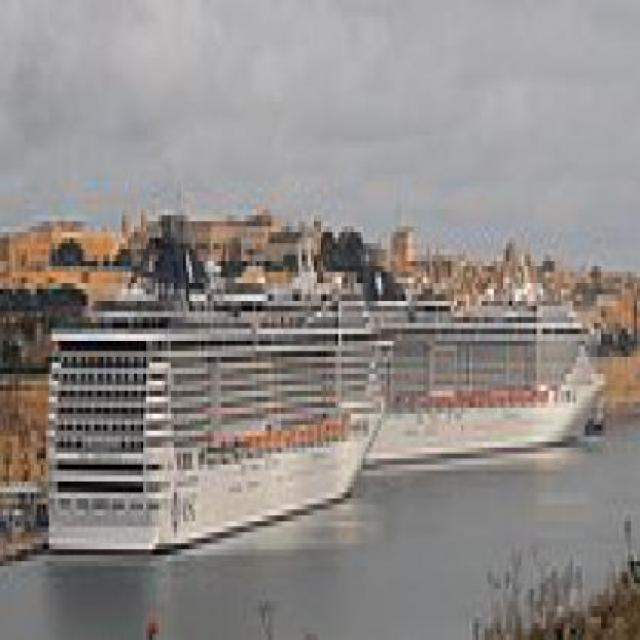cruise: (31, 256, 400, 573)
